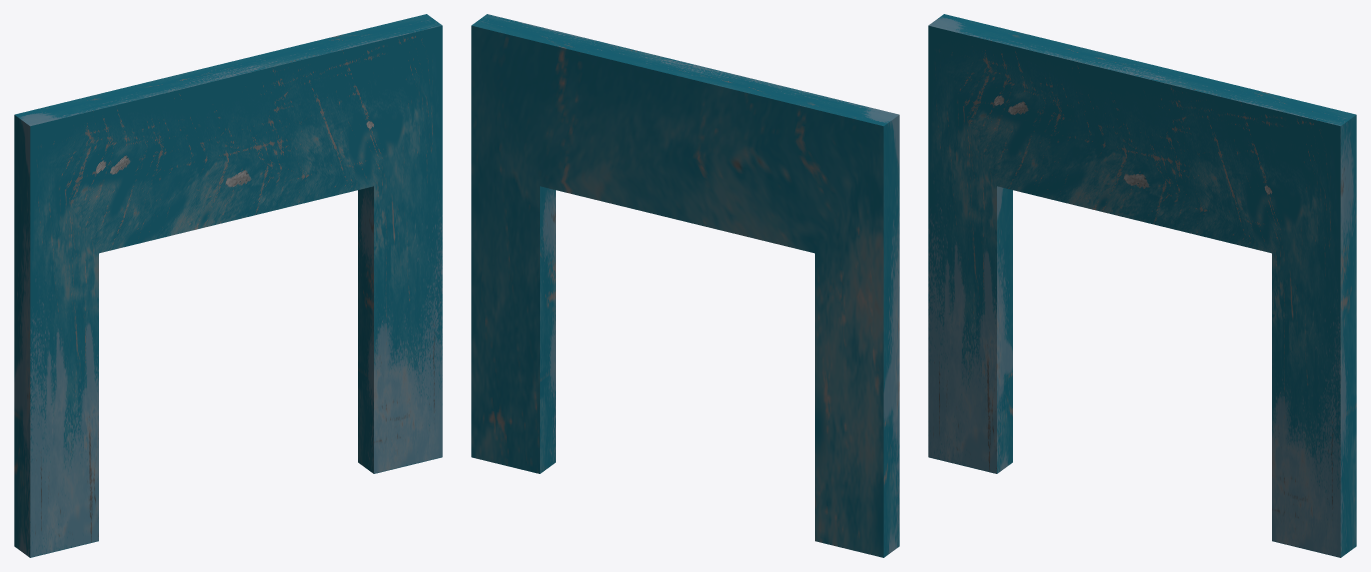
The model's file is 2_door_wall.fbx.
The picture shows the model from 3 angles, left to right: view 1: azimuth 30°, elevation 25°; view 2: azimuth 150°, elevation 25°; view 3: azimuth 330°, elevation 25°; orthographic projection.
Parts seen in each view (by area): view 1: Cube.003; view 2: Cube.003; view 3: Cube.003.
Part boxes in pixels (x1,y1,x2,y2): Cube.003: (14,14,442,557); Cube.003: (471,14,899,557); Cube.003: (928,14,1356,557).
Size of the model in its own units: 600 by 600 by 40.
1 material, 1 textured.
